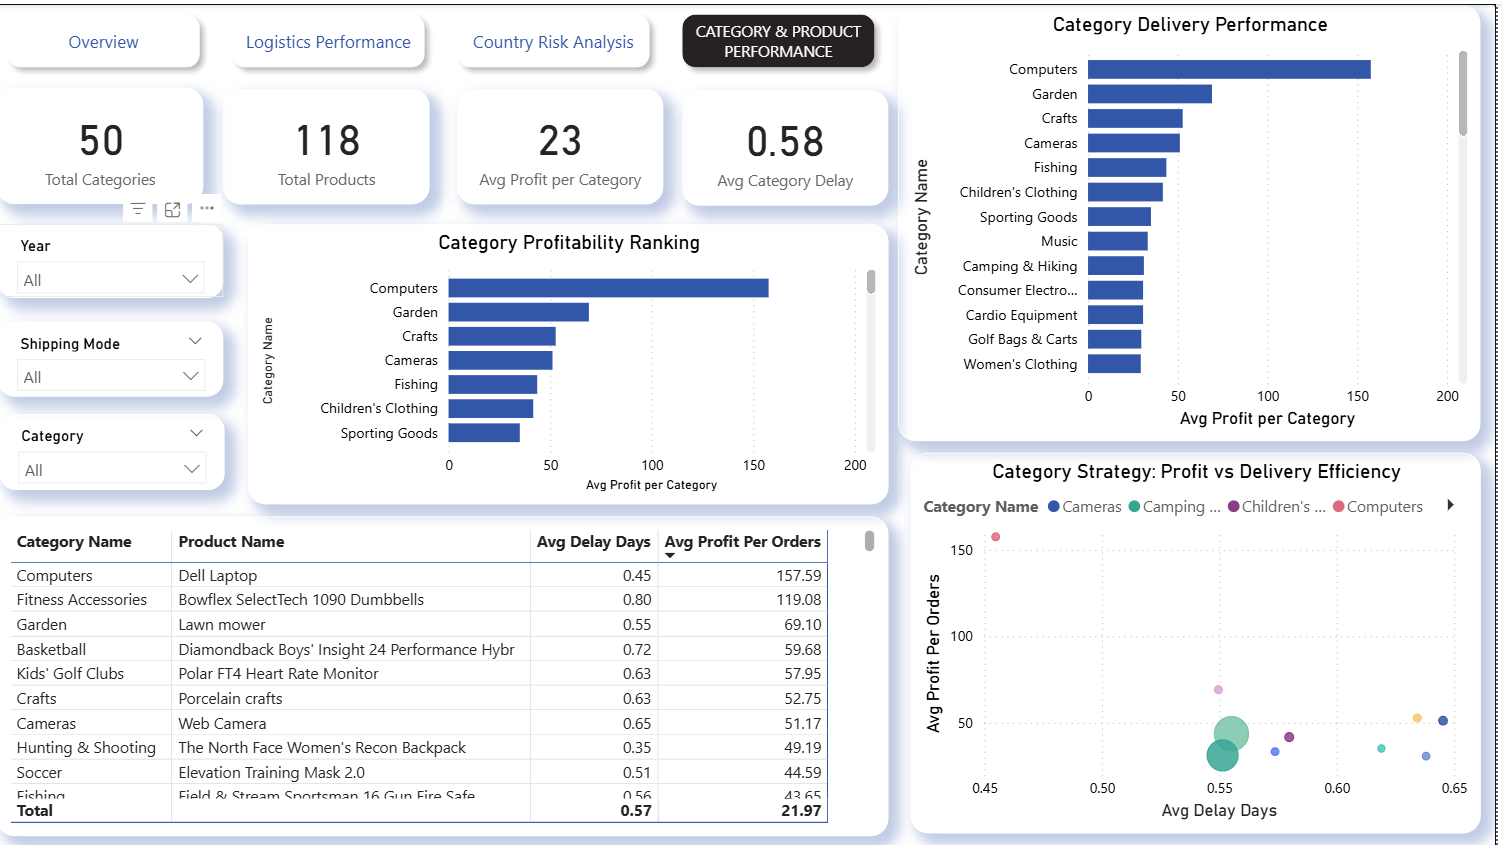

What the dashboard file says about the page in this screenshot:
{"tool":"powerbi","page":{"name":"CATEGORY & PRODUCT PERFORMANCE","canvas":[1280,720],"ordinal":3},"visuals":[{"type":"pageNavigator","box":[0,0,760.5,63.7],"z":0},{"type":"card","fields":{"Values":["Meassure.Total Category"]},"box":[0,71.3,175.8,99.4],"z":1000},{"type":"card","fields":{"Values":["Meassure.Avg Category Delay"]},"box":[584.7,73.9,175.8,98.1],"z":2000},{"type":"card","fields":{"Values":["Meassure.Avg profit per Category"]},"box":[392.4,72.6,175.8,98.1],"z":3000},{"type":"card","fields":{"Values":["Meassure.Total Products"]},"box":[193.6,72.6,175.8,98.1],"z":4000},{"type":"slicer","fields":{"Values":["supplychain_cleaned_data.order_year"]},"box":[1.1,187.8,192.1,63],"z":5000},{"type":"slicer","fields":{"Values":["supplychain_cleaned_data.Shipping Mode"]},"box":[1.3,271.3,192.4,63.7],"z":6000},{"type":"slicer","fields":{"Values":["supplychain_cleaned_data.Category Name"]},"box":[2.5,350.3,192.4,65],"z":7000},{"type":"barChart","title":"Category Profitability Ranking","fields":{"Y":["Meassure.Avg Profit per Category"],"Category":["supplychain_cleaned_data.Category Name"]},"box":[214,187.3,546.5,239.5],"z":8000},{"type":"barChart","title":"Category Delivery Performance","fields":{"Category":["supplychain_cleaned_data.Category Name"],"Y":["Meassure.Avg Profit per Category"]},"box":[769.4,1.5,497.1,371.7],"z":9000},{"type":"scatterChart","title":"Category Strategy: Profit vs Delivery Efficiency","fields":{"X":["Meassure.Avg Delay Days"],"Y":["Meassure.Avg Profit Per Orders"],"Size":["Meassure.Total Orders"],"Series":["supplychain_cleaned_data.Category Name"]},"box":[779.6,383.4,486.6,324.8],"z":10000},{"type":"tableEx","title":"Top 5 Countries by Delay days","fields":{"Values":["supplychain_cleaned_data.Category Name","supplychain_cleaned_data.Product Name","Meassure.Avg Delay Days","Meassure.Avg Profit Per Orders"]},"box":[0,436.9,760.5,272.6],"z":11000}]}

Visuals, with their boxes in screenshot pixels (x1, y1, x2, y2), scaled from the page's 1280x720 canvas onto the 1502x845 screenshot:
pageNavigator: locate(0, 0, 892, 75)
card - Meassure.Total Category: locate(0, 84, 206, 200)
card - Meassure.Avg Category Delay: locate(686, 87, 892, 202)
card - Meassure.Avg profit per Category: locate(460, 85, 667, 200)
card - Meassure.Total Products: locate(227, 85, 433, 200)
slicer - supplychain_cleaned_data.order_year: locate(1, 220, 227, 294)
slicer - supplychain_cleaned_data.Shipping Mode: locate(2, 318, 227, 393)
slicer - supplychain_cleaned_data.Category Name: locate(3, 411, 229, 487)
"Category Profitability Ranking" barChart: locate(251, 220, 892, 501)
"Category Delivery Performance" barChart: locate(903, 2, 1486, 438)
"Category Strategy: Profit vs Delivery Efficiency" scatterChart: locate(915, 450, 1486, 831)
"Top 5 Countries by Delay days" tableEx: locate(0, 513, 892, 833)
